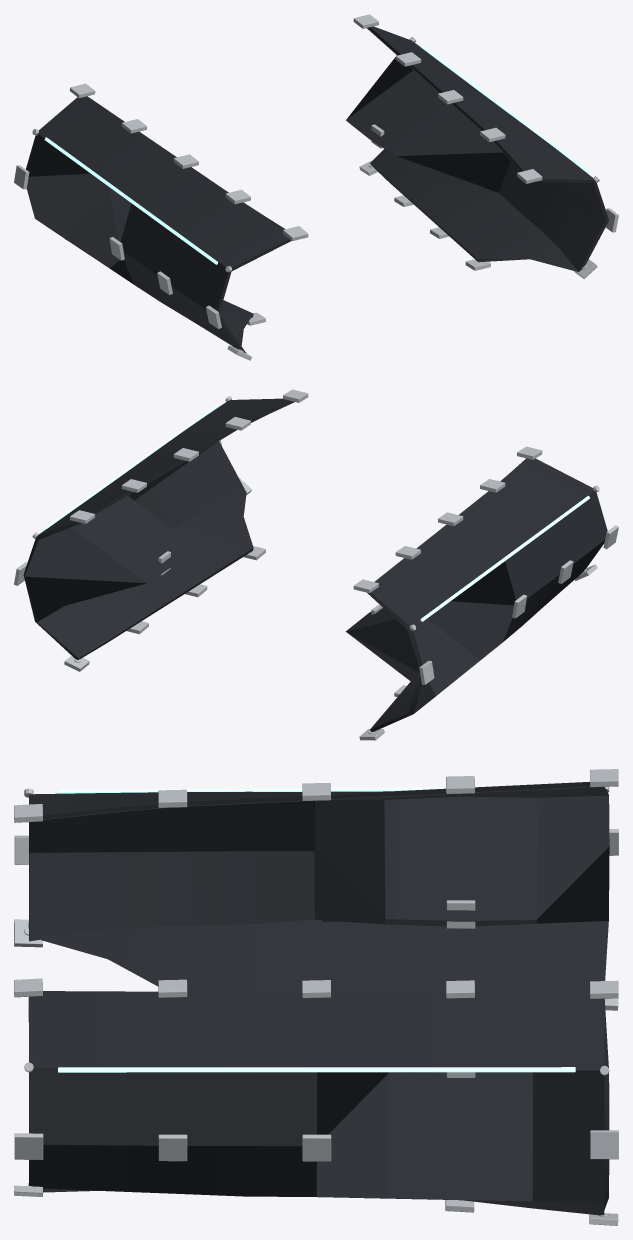
Rendered from wraith_armor_shell.fbx.
The picture shows the model from 3 angles, top to bottom: view 1: azimuth 30°, elevation 25°; view 2: azimuth 150°, elevation 25°; view 3: azimuth 270°, elevation 25°; orthographic projection. The views are drawn at different scales.
Parts seen in each view (by area): view 1: Armor_Shell_R, Armor_Shell_L, Armor_Shell_Bits_<Vector (-0.8325, -0.0988, 0.5725)>, Armor_Shell_Bits_<Vector (0.8325, -0.0988, 0.5725)>; view 2: Armor_Shell_R, Armor_Shell_L, Armor_Shell_Bits_<Vector (-0.8325, -0.0988, 0.5725)>, Armor_Shell_Bits_<Vector (0.8325, -0.0988, 0.5725)>; view 3: Armor_Shell_R, Armor_Shell_L, Armor_Shell_Bits_<Vector (0.8325, -0.0988, 0.5725)>, Armor_Shell_Bits_<Vector (-0.8325, -0.0988, 0.5725)>.
Part boxes in pixels (<box>): Armor_Shell_R: <box>346,26,609,271</box>; Armor_Shell_L: <box>26,96,291,353</box>; Armor_Shell_Bits_<Vector (-0.8325, -0.0988, 0.5725)>: <box>14,83,308,360</box>; Armor_Shell_Bits_<Vector (0.8325, -0.0988, 0.5725)>: <box>353,14,618,278</box>; Armor_Shell_R: <box>23,398,294,659</box>; Armor_Shell_L: <box>346,458,607,731</box>; Armor_Shell_Bits_<Vector (-0.8325, -0.0988, 0.5725)>: <box>353,446,618,740</box>; Armor_Shell_Bits_<Vector (0.8325, -0.0988, 0.5725)>: <box>14,389,308,671</box>; Armor_Shell_R: <box>28,991,609,1215</box>; Armor_Shell_L: <box>28,782,609,992</box>; Armor_Shell_Bits_<Vector (0.8325, -0.0988, 0.5725)>: <box>14,978,618,1225</box>; Armor_Shell_Bits_<Vector (-0.8325, -0.0988, 0.5725)>: <box>14,769,618,1010</box>.
Bounding box in the file's own units: 177 × 63.13 × 147.
